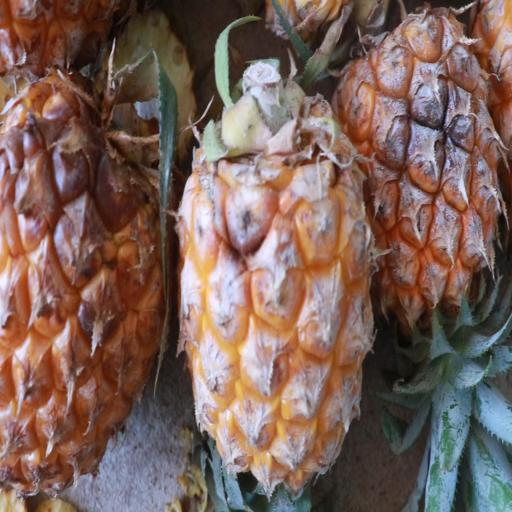Pineapple - v8 v1: (174, 78, 376, 512), (0, 76, 173, 512), (326, 0, 509, 385)
